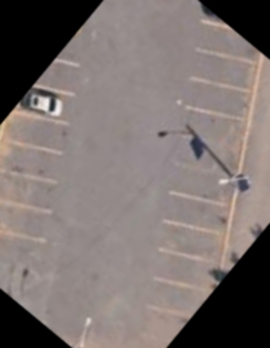parkingspot: (131, 0, 266, 348), (0, 31, 95, 248)
